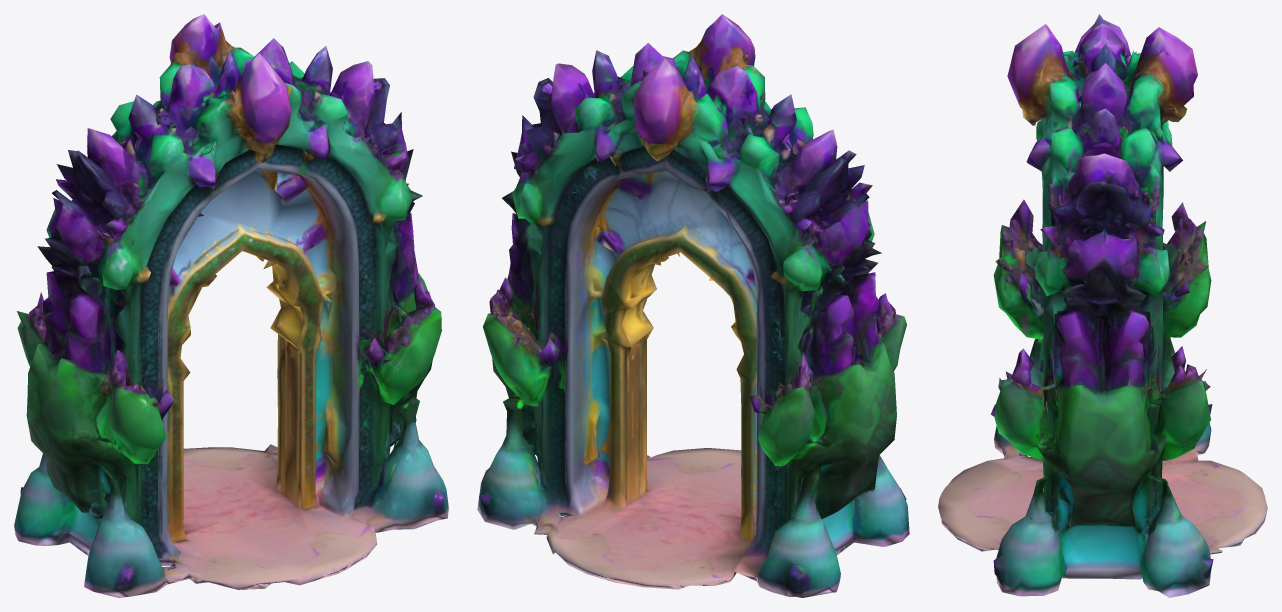
The model's file is arches_made_of_goo_an_0610150035_texture.fbx.
3 views of the same model, side by side, from view 1: azimuth 30°, elevation 25°; view 2: azimuth 150°, elevation 25°; view 3: azimuth 270°, elevation 25° (orthographic).
Visible parts, largest first — view 1: Mesh1; view 2: Mesh1; view 3: Mesh1.
Boxes of the visible parts, left/top/right/bottom form: Mesh1: left=14, top=14, right=448, bottom=597; Mesh1: left=477, top=14, right=909, bottom=597; Mesh1: left=938, top=14, right=1267, bottom=597.
Size of the model in its own units: 160 by 199 by 122.
Materials: 1 (1 with a texture image).
